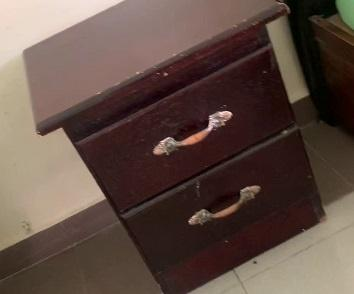cabinet_door: (88, 87, 289, 164), (131, 166, 301, 256)
handle: (150, 111, 236, 157), (186, 184, 264, 229)
